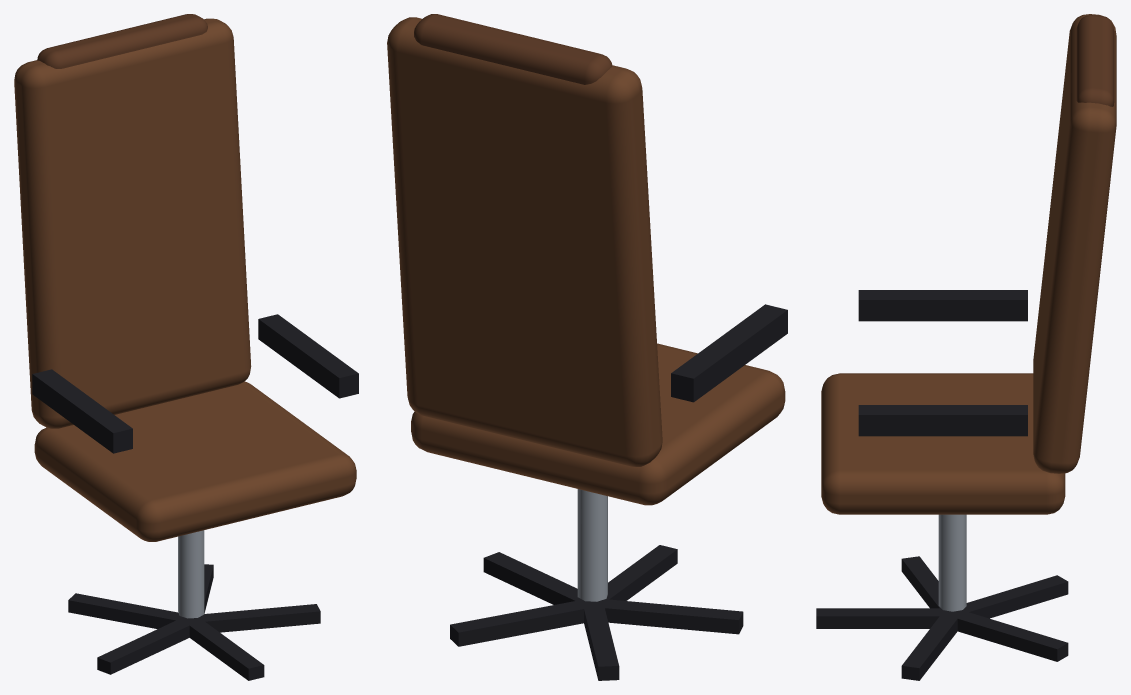
File: cadeira-diretor.glb
3 renders of one model, left to right at view 1: azimuth 30°, elevation 25°; view 2: azimuth 150°, elevation 25°; view 3: azimuth 270°, elevation 25°, orthographic. The views are drawn at different scales.
Visible parts, largest first — view 1: cadeira-diretor_malha; view 2: cadeira-diretor_malha; view 3: cadeira-diretor_malha.
Part boxes in pixels (box(x1,y1,x2,y2)): cadeira-diretor_malha: box(14, 14, 358, 680); cadeira-diretor_malha: box(387, 14, 787, 680); cadeira-diretor_malha: box(816, 14, 1116, 680).
Bounding box in the file's own units: 0.63 × 1.35 × 0.6387.
